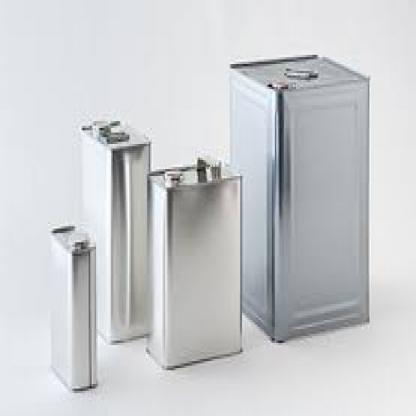METAL: (227, 50, 368, 343), (146, 155, 240, 366), (78, 117, 150, 338), (50, 226, 93, 389)
